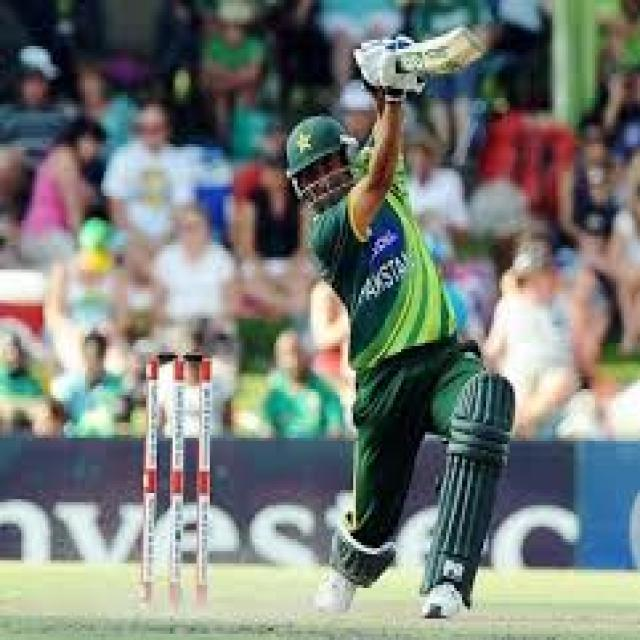toe: (450, 20, 502, 71)
